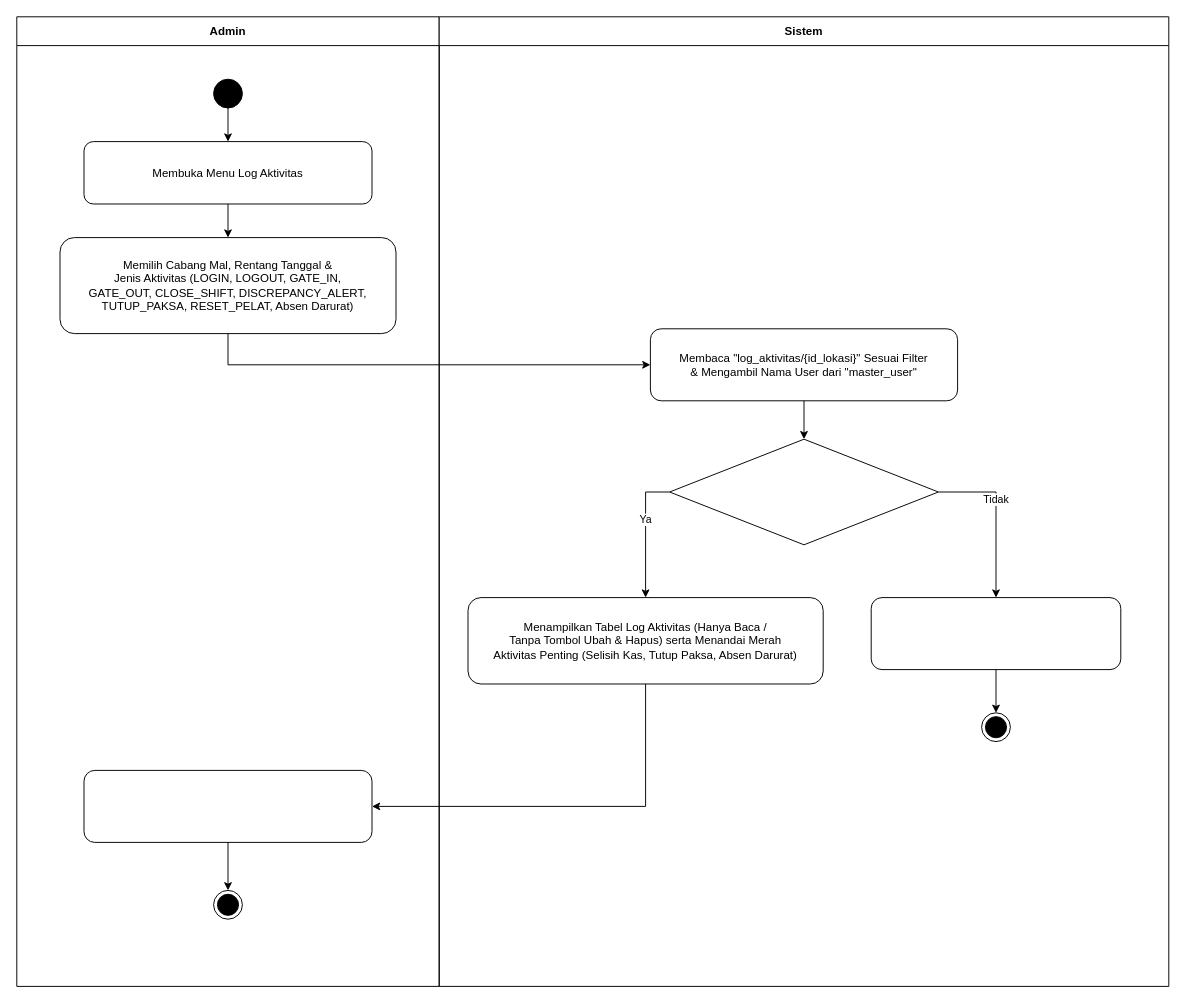
Some shapes in this 1186 by 1003 pixel diagram are drawn without their labels. The shapes that lost their labels are listed below. From the top down, each one's centre as x and y in pixels, then its label:
(x=803, y=491): Apakah Data Aktivitas Ditemukan?
(x=995, y=633): Menampilkan Pesan "Tidak ada aktivitas"
(x=227, y=805): Melihat & Memantau Riwayat Log Aktivitas Audit (Hanya Baca)
